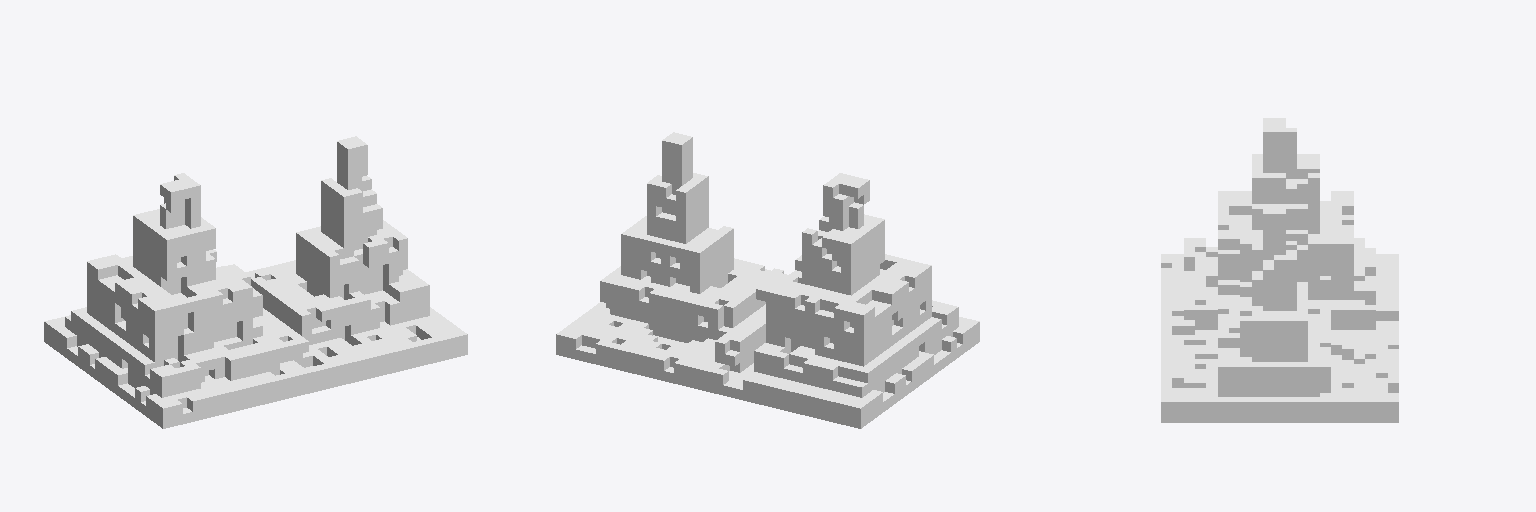
Rendered from lodowiec_podwojny.obj.
The picture shows the model from 3 angles: view 1: azimuth 30°, elevation 25°; view 2: azimuth 150°, elevation 25°; view 3: azimuth 270°, elevation 25°; orthographic projection.
Visible parts, largest first — view 1: object 1; view 2: object 1; view 3: object 1.
Boxes of the visible parts, x1,y1,x2,y2 form: object 1: [44, 136, 467, 428]; object 1: [556, 132, 979, 428]; object 1: [1161, 118, 1398, 422].
Bounding box in the file's own units: 3.1 × 1.8 × 2.1.